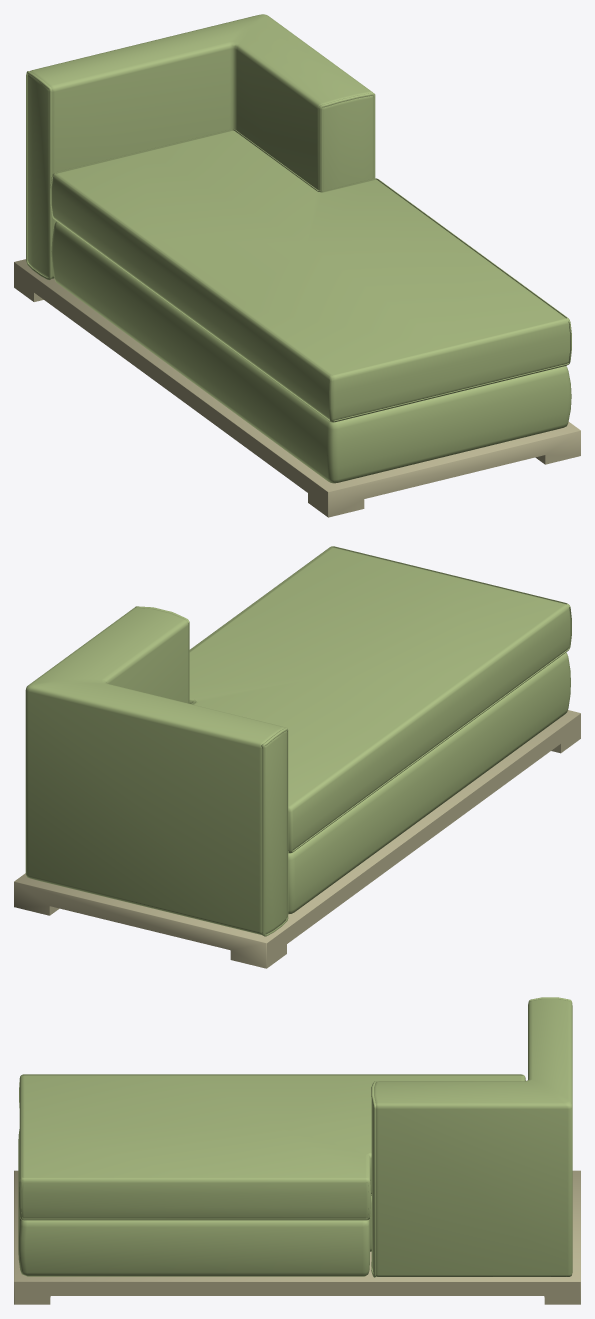
The model's file is MZBCL03R.FBX.
The picture shows the model from 3 angles, top to bottom: view 1: azimuth 30°, elevation 25°; view 2: azimuth 150°, elevation 25°; view 3: azimuth 270°, elevation 25°; orthographic projection. The views are drawn at different scales.
Parts seen in each view (by area): view 1: MZBCL03R; view 2: MZBCL03R; view 3: MZBCL03R.
Boxes of the visible parts, <box> form: MZBCL03R: <box>14,14,580,517</box>; MZBCL03R: <box>14,546,580,968</box>; MZBCL03R: <box>14,997,580,1304</box>.
Size of the model in its own units: 78 by 168 by 65.1.
